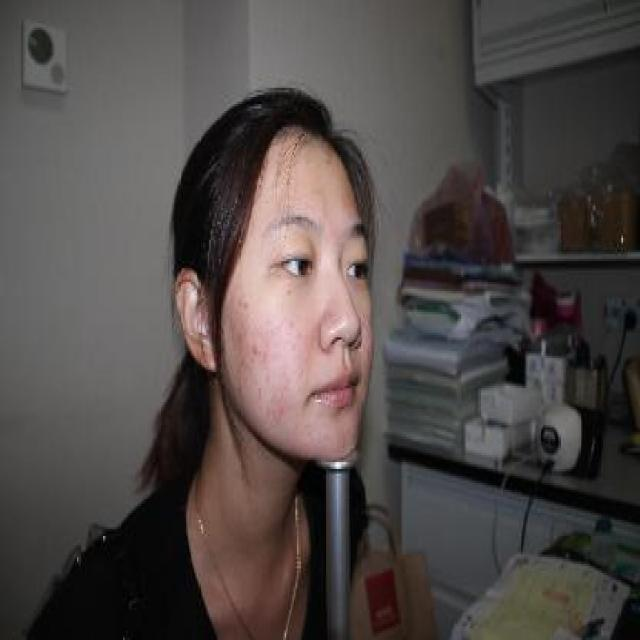dark spot: (242, 300, 250, 310), (239, 298, 243, 307)
papules: (251, 342, 258, 356)
whiteheads: (294, 330, 301, 340), (288, 319, 294, 328), (322, 434, 328, 442), (316, 411, 322, 418), (303, 423, 309, 430), (291, 344, 295, 351), (283, 369, 286, 376)
